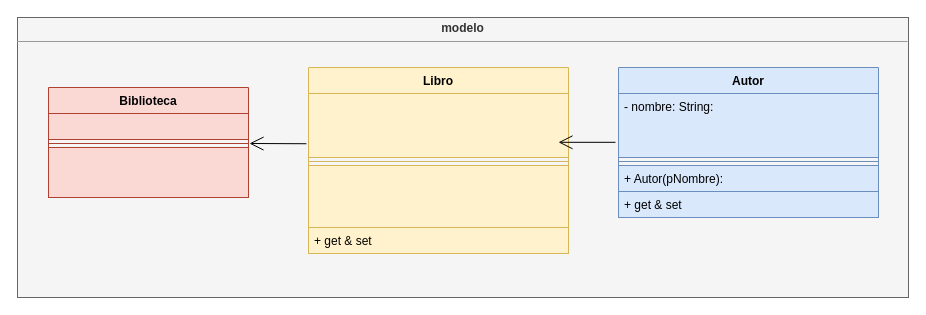
The diagram is 926 pixels wide and 315 high, and some of its shapes have lost their labels. Each missing label, with the centre of its shape:
+ Biblioteca(): + agregarLibro(): + getLibro():: point 148,172
+ Libro(pNombre, pAnio, Autor): + añadirAutor(Autor): + definirLujo():: point 438,196
- libros: Arraylist: point 148,126
- nombre: String - anio: String - lujo: Boolean - autores: Arraylist: point 438,125
